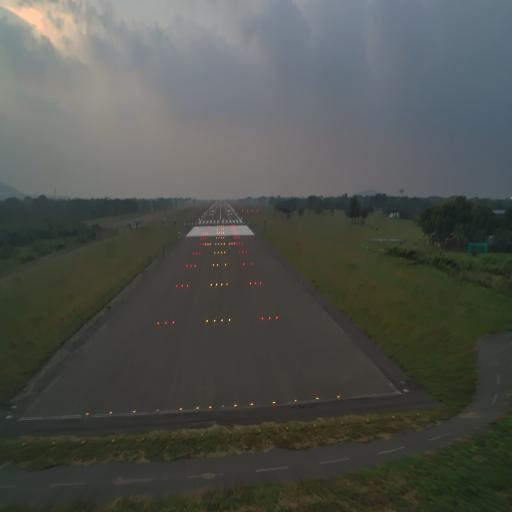off: (220, 402, 226, 410), (156, 406, 160, 414)
on: (108, 408, 114, 417), (178, 405, 183, 414), (195, 404, 200, 413), (208, 403, 212, 413), (315, 394, 320, 402), (260, 314, 264, 323), (85, 410, 90, 417), (132, 409, 137, 416), (249, 401, 254, 408), (234, 401, 238, 409), (272, 399, 276, 407), (294, 396, 298, 404), (164, 319, 168, 327), (212, 316, 216, 324), (336, 394, 341, 400), (228, 317, 232, 324), (172, 317, 175, 326), (156, 320, 160, 326), (206, 318, 210, 324), (268, 316, 272, 322), (275, 316, 279, 322), (220, 318, 224, 323)
